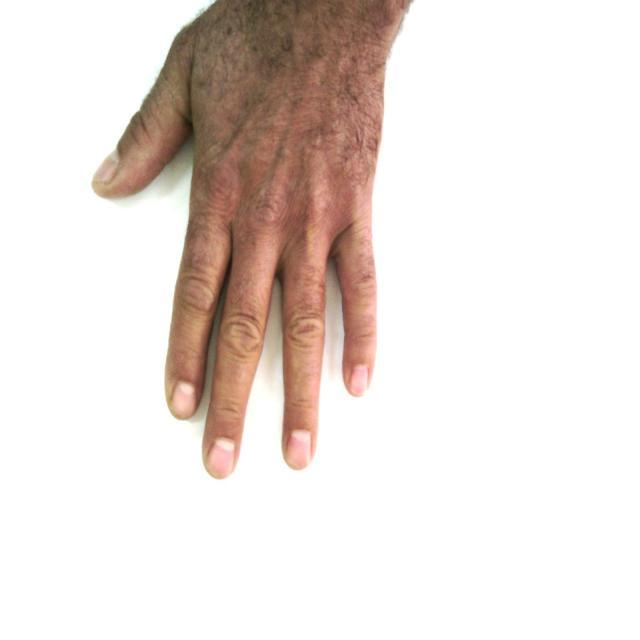Fingernail: (209, 440, 235, 478), (287, 429, 310, 468), (173, 383, 198, 417), (94, 151, 118, 184), (351, 365, 367, 396)
